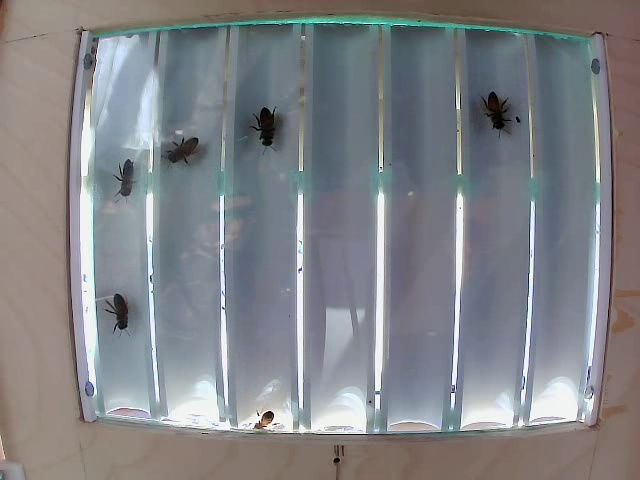bee: (150, 138, 220, 178), (246, 93, 290, 154), (481, 79, 519, 134), (106, 273, 136, 336), (116, 160, 155, 207)
